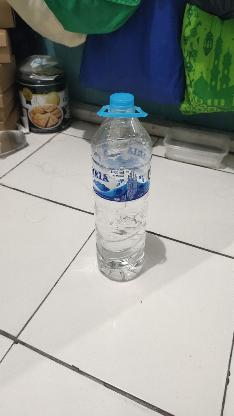Plastic Bottle: (92, 91, 152, 283)
